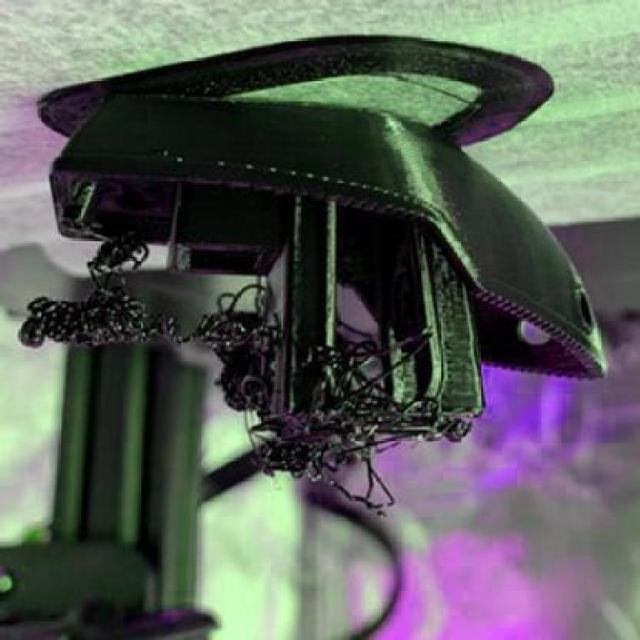spaghetti: (183, 286, 472, 525), (17, 239, 183, 358)
